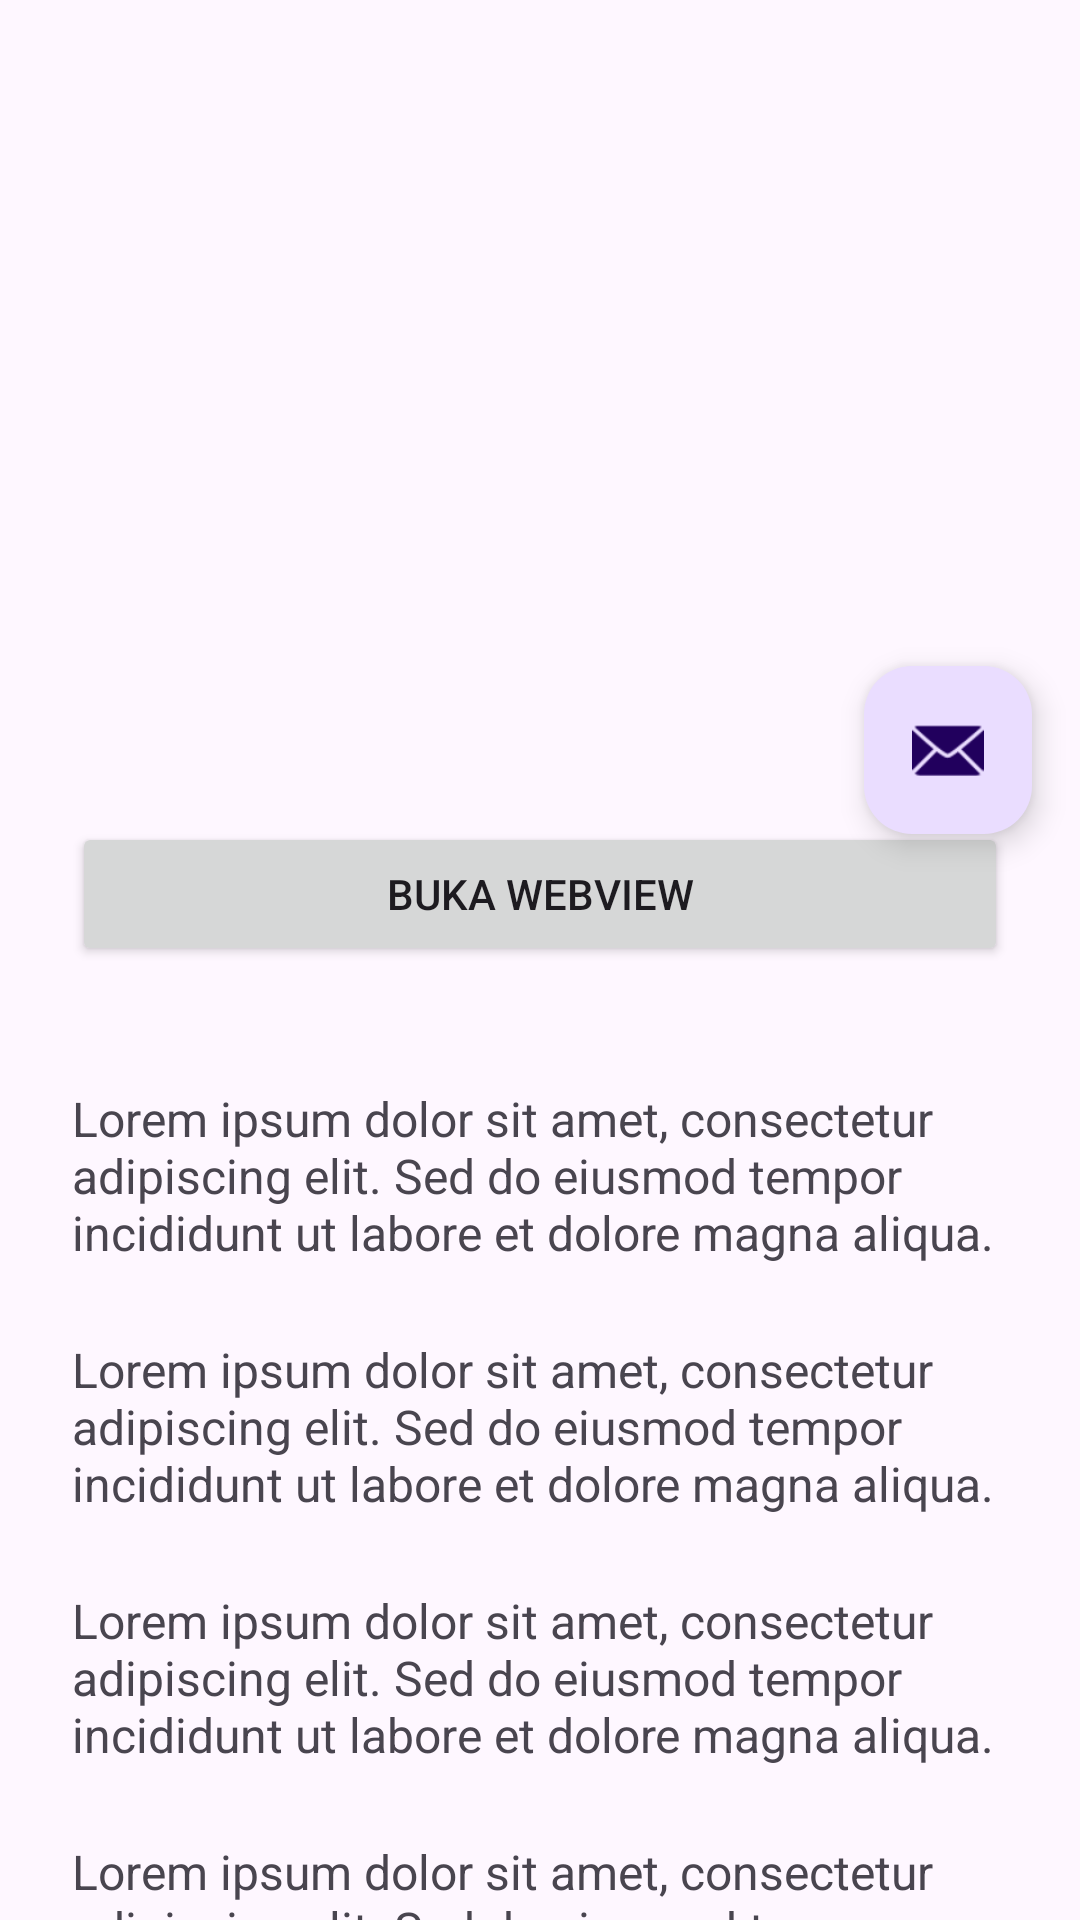

Named icons in this screenshot (1080×1920) and their centers, [x,y]:
email: [948,750]
